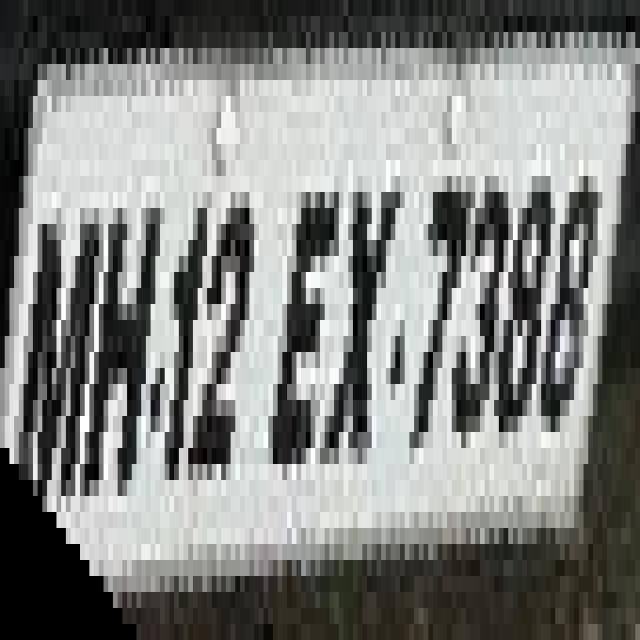license_plate: (5, 16, 602, 576)
